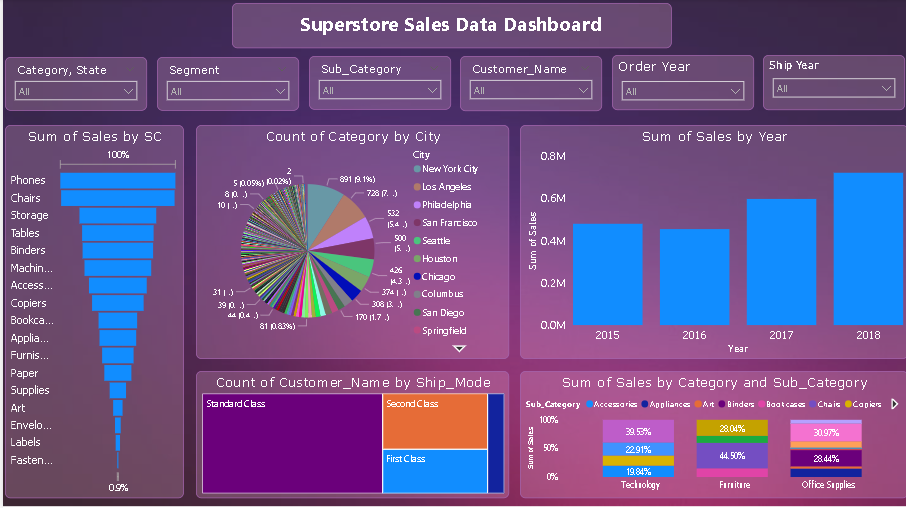

The dashboard page shown, as its layout file describes it:
{"tool":"powerbi","page":{"name":"Page 1","canvas":[1280,720],"ordinal":0},"visuals":[{"type":"clusteredColumnChart","fields":{"Category":["superstore.Order_Date.Variation.Date Hierarchy.Year"],"Y":["Sum(superstore.Sales)"]},"box":[731.3,178.2,548.8,297.1],"z":0},{"type":"textbox","box":[323.9,5.7,622.4,63.7],"z":1000},{"type":"slicer","fields":{"Values":["superstore.Category","superstore.State"]},"box":[2.8,82,200.9,76.4],"z":2000},{"type":"slicer","fields":{"Values":["superstore.Segment"]},"box":[217.8,82,200.9,76.4],"z":2001},{"type":"slicer","fields":{"Values":["superstore.Sub_Category"]},"box":[432.8,80.6,200.9,76.4],"z":2002},{"type":"slicer","fields":{"Values":["superstore.Customer_Name"]},"box":[646.4,80.6,200.9,77.8],"z":2003},{"type":"slicer","title":"Order Year","fields":{"Values":["superstore.Order_Date.Variation.Date Hierarchy.Year"]},"box":[861.5,79.2,200.9,77.8],"z":2004},{"type":"slicer","title":"Ship Year","fields":{"Values":["superstore.Ship_Date.Variation.Date Hierarchy.Year"]},"box":[1075,79.2,200.9,77.8],"z":2005},{"type":"funnel","title":"Sum of Sales by SC","fields":{"Y":["Sum(superstore.Sales)"],"Category":["superstore.Sub_Category"]},"box":[2.8,178.2,253.2,483.8],"z":2006},{"type":"pieChart","fields":{"Category":["superstore.City"],"Y":["CountNonNull(superstore.Category)"]},"box":[273,178.2,442.8,297.1],"z":2007},{"type":"treemap","fields":{"Group":["superstore.Ship_Mode"],"Values":["CountNonNull(superstore.Customer_Name)"]},"box":[273,493.7,442.8,168.3],"z":2008},{"type":"hundredPercentStackedColumnChart","fields":{"Category":["superstore.Category"],"Y":["Sum(superstore.Sales)"],"Series":["superstore.Sub_Category"]},"box":[731,494,549,168],"z":2009}]}

Visuals, with their boxes in screenshot pixels (x1, y1, x2, y2), scaled from the page's 1280x720 canvas onto the 906x508 screenshot:
clusteredColumnChart - superstore.Order_Date.Variation.Date Hierarchy.Year x Sum(superstore.Sales): region(518, 126, 905, 335)
textbox: region(229, 4, 670, 49)
slicer - superstore.Category x superstore.State: region(2, 58, 144, 112)
slicer - superstore.Segment: region(154, 58, 296, 112)
slicer - superstore.Sub_Category: region(306, 57, 449, 111)
slicer - superstore.Customer_Name: region(458, 57, 600, 112)
"Order Year" slicer: region(610, 56, 752, 111)
"Ship Year" slicer: region(761, 56, 903, 111)
"Sum of Sales by SC" funnel: region(2, 126, 181, 467)
pieChart - superstore.City x CountNonNull(superstore.Category): region(193, 126, 507, 335)
treemap - superstore.Ship_Mode x CountNonNull(superstore.Customer_Name): region(193, 348, 507, 467)
hundredPercentStackedColumnChart - superstore.Category x Sum(superstore.Sales): region(517, 349, 905, 467)
